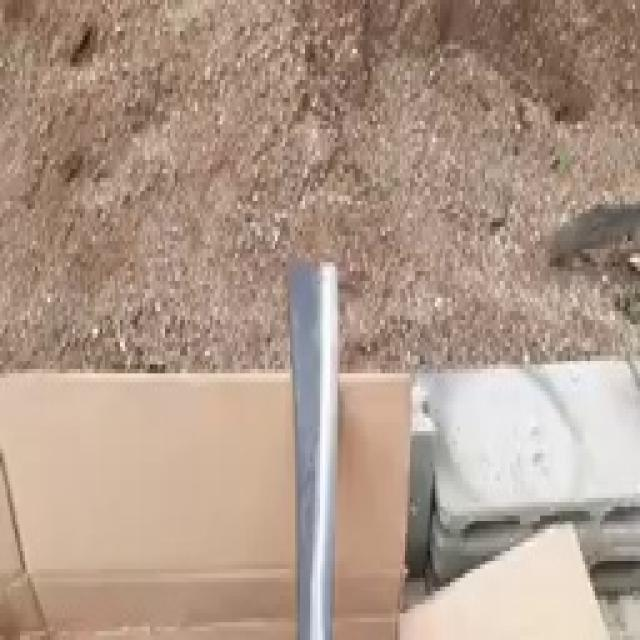eto: (291, 257, 335, 640)
